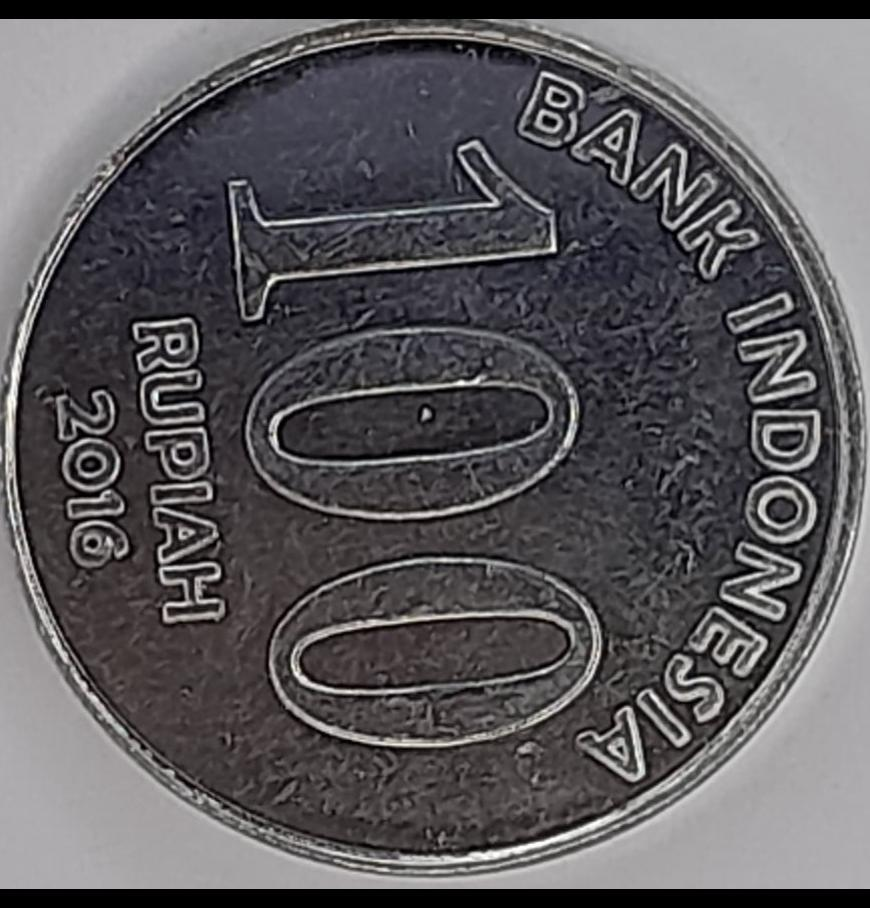coin_100_e2016: (0, 16, 869, 880)
